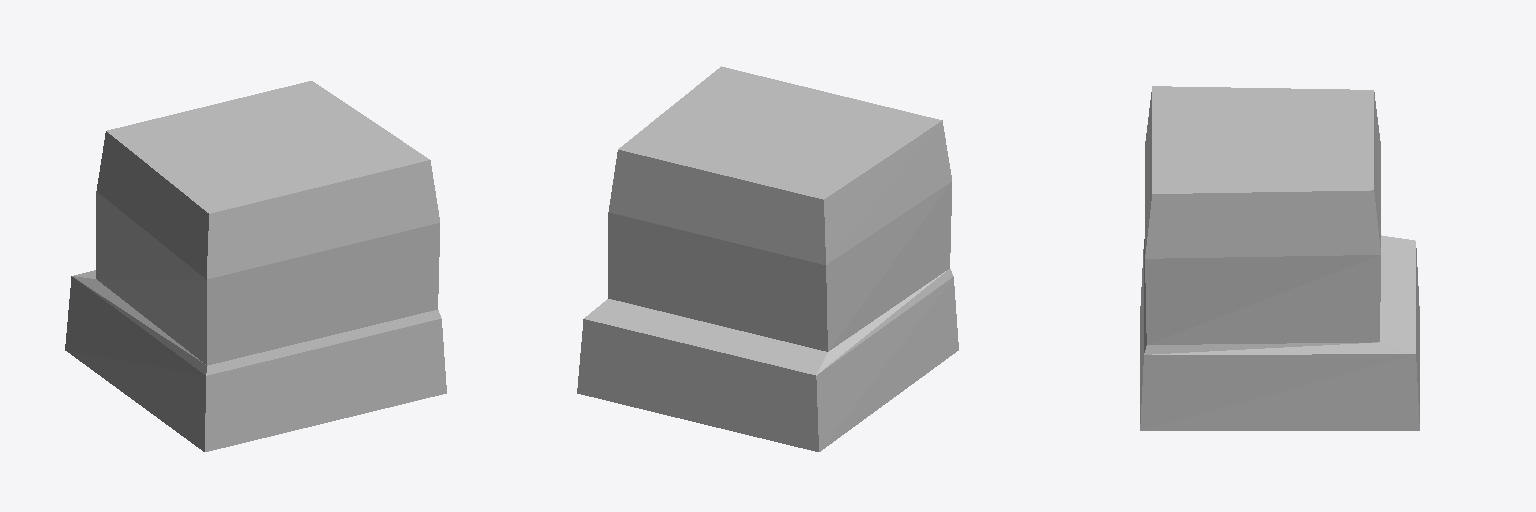
Rendered from one.obj.
3 renders of one model, left to right at view 1: azimuth 30°, elevation 25°; view 2: azimuth 150°, elevation 25°; view 3: azimuth 270°, elevation 25°, orthographic.
Size of the model in its own units: 1.09 by 1 by 1.09.